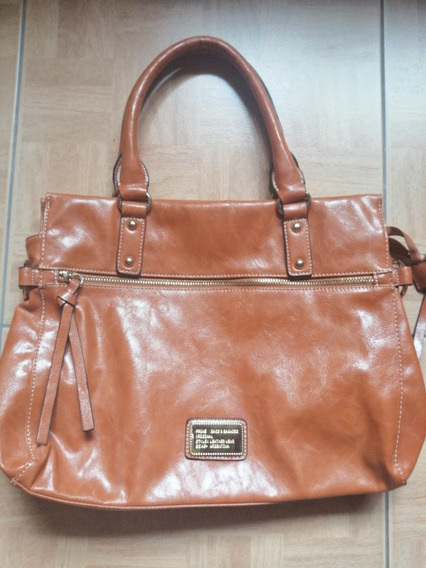cartera: (3, 34, 426, 513)
